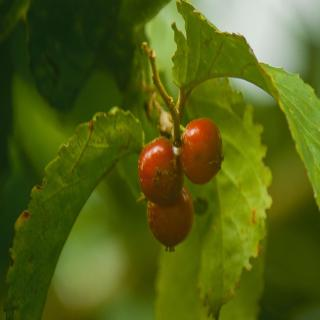tomato: (150, 185, 193, 260), (181, 116, 225, 179), (138, 136, 180, 202)
